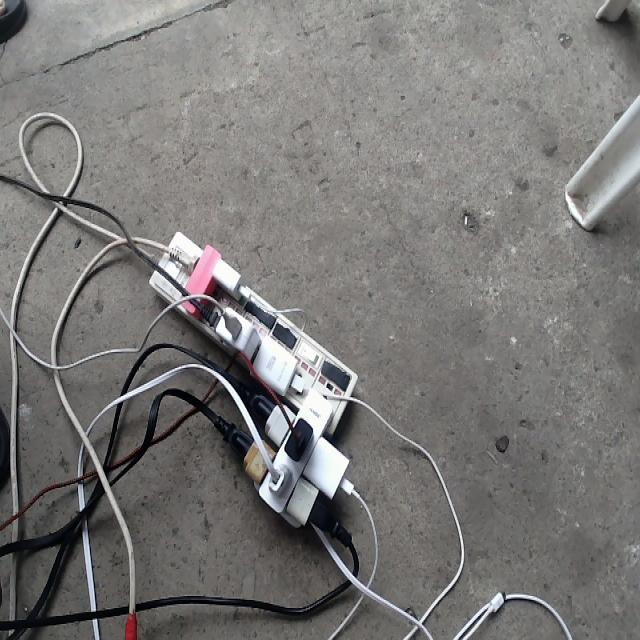-: (148, 229, 359, 547)
